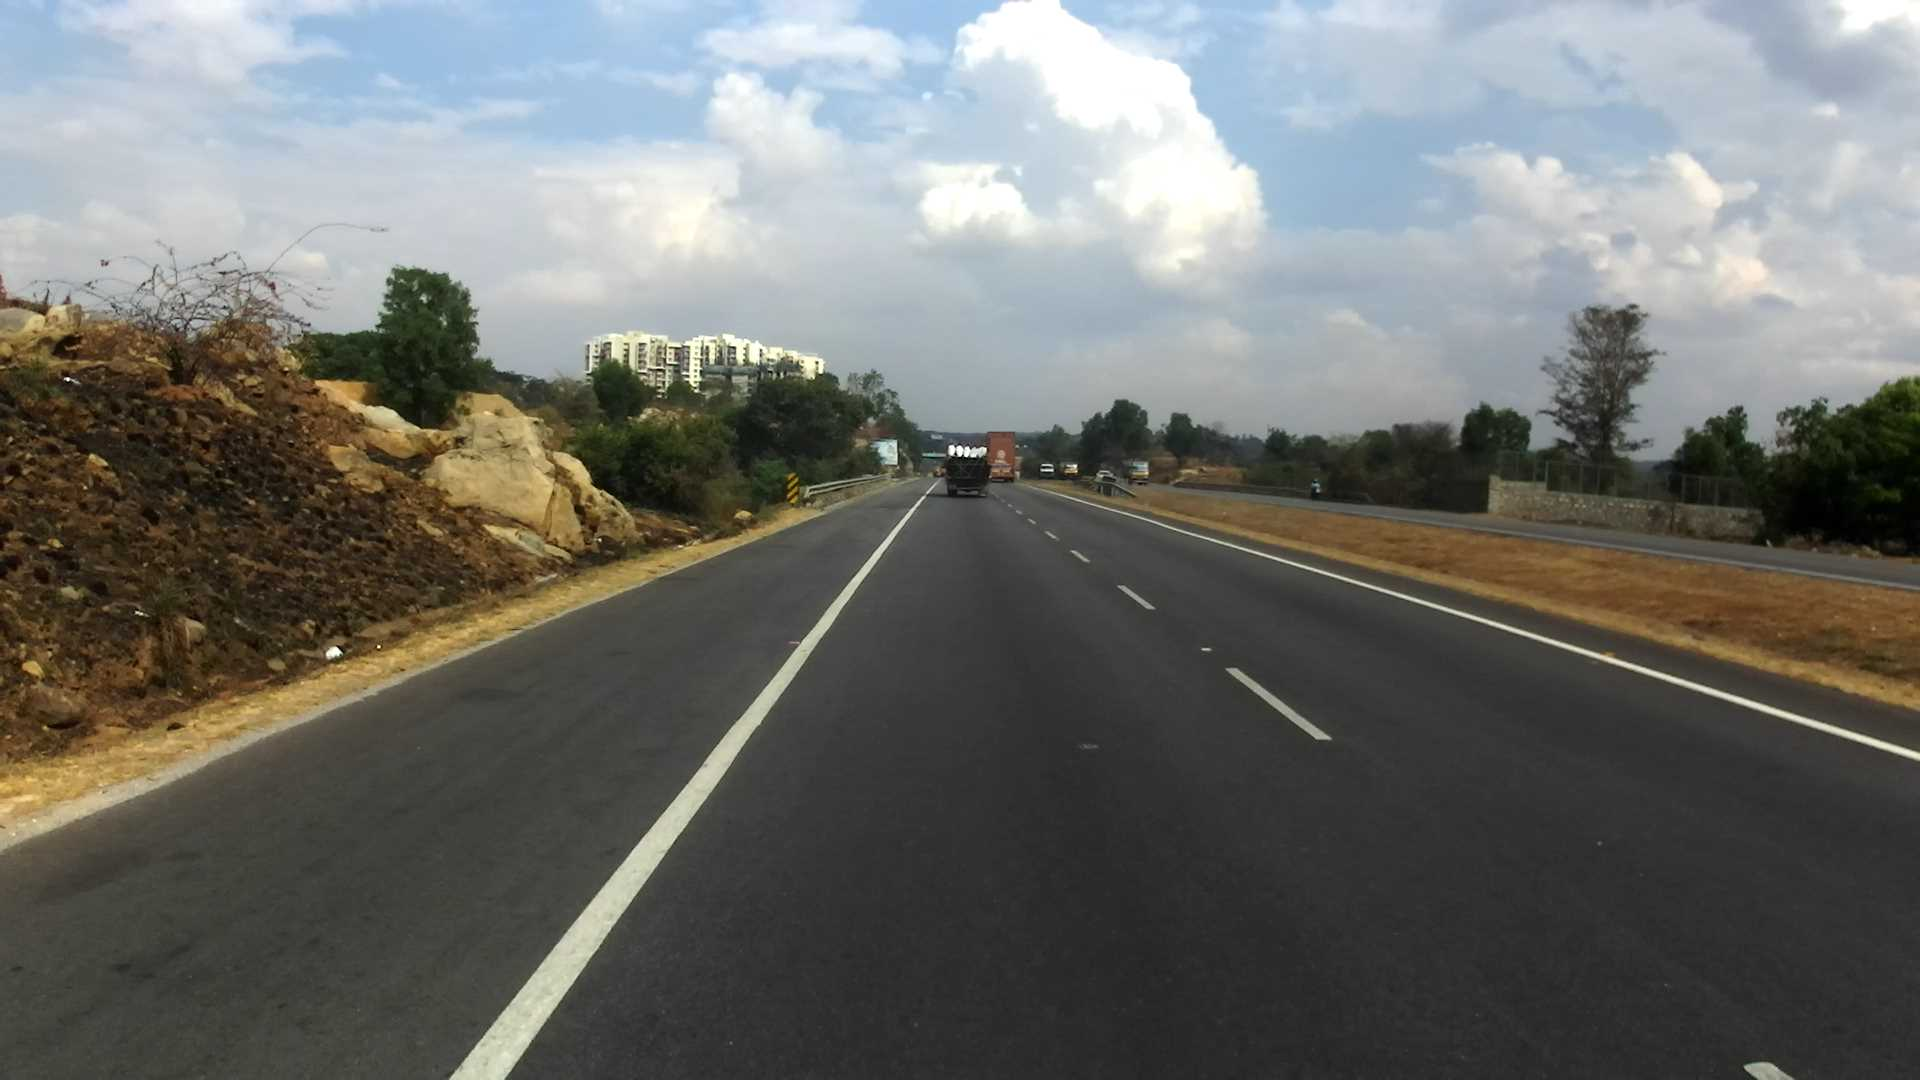bike: (1295, 467, 1354, 512)
car: (1088, 457, 1125, 487)
truck: (932, 426, 1007, 510), (983, 412, 1024, 500), (1118, 443, 1160, 498), (1032, 452, 1095, 483)
